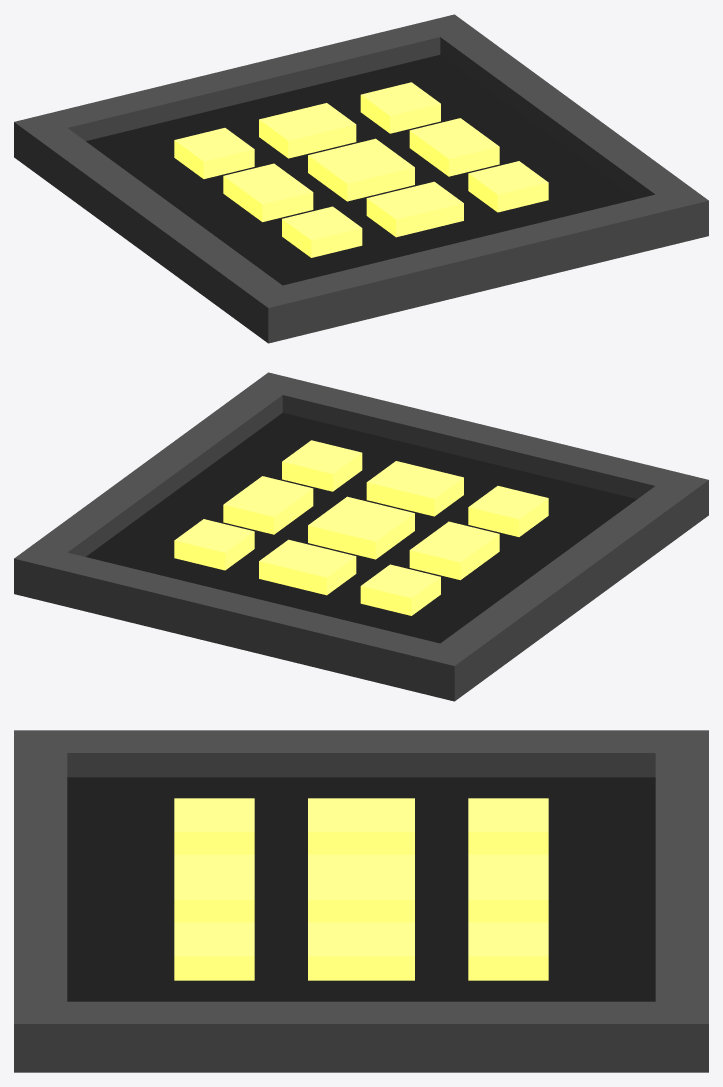
File: trap_DOTS_YELLOW.glb
3 views of the same model, one above another, from view 1: azimuth 30°, elevation 25°; view 2: azimuth 150°, elevation 25°; view 3: azimuth 270°, elevation 25° (orthographic). The views are drawn at different scales.
Parts seen in each view (by area): view 1: item_TRAP_DOTS_YELLOW; view 2: item_TRAP_DOTS_YELLOW; view 3: item_TRAP_DOTS_YELLOW.
Boxes of the visible parts, x1=… form: item_TRAP_DOTS_YELLOW: x1=14, y1=14, x2=708, y2=343; item_TRAP_DOTS_YELLOW: x1=14, y1=372, x2=708, y2=701; item_TRAP_DOTS_YELLOW: x1=14, y1=730, x2=708, y2=1072.
Bounding box in the file's own units: 0.5909 × 0.0455 × 0.5909.
1 material, 1 textured.
